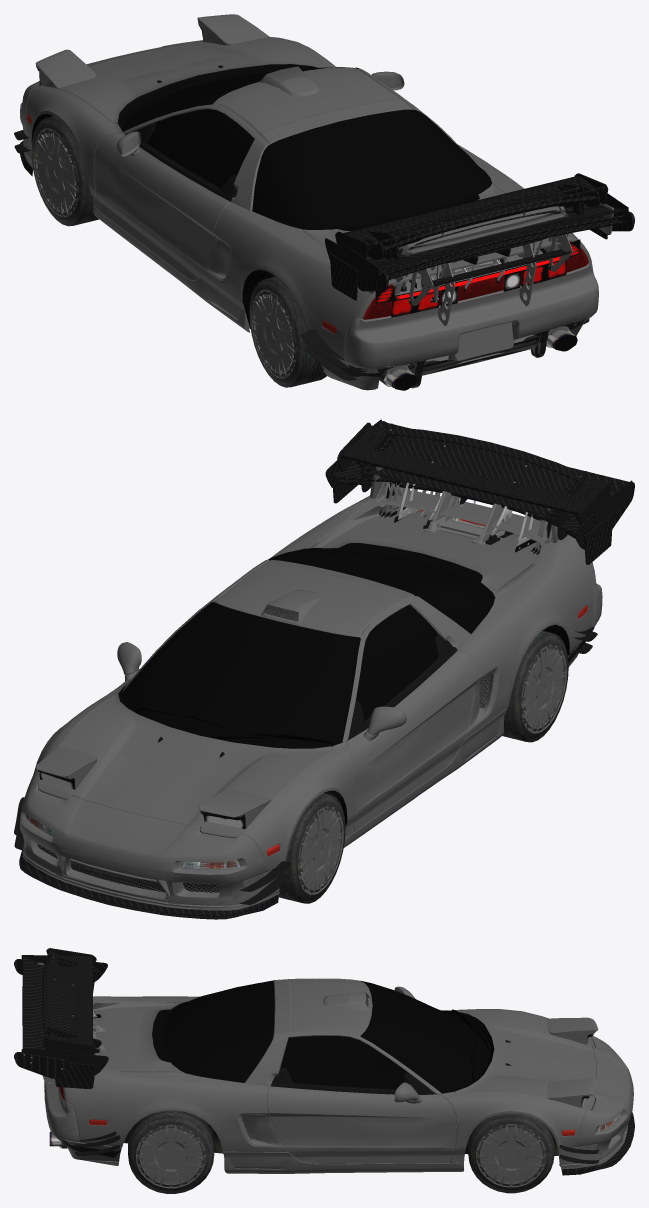
Rendered from Nsx.fbx.
3 renders of one model, top to bottom at view 1: azimuth 30°, elevation 25°; view 2: azimuth 150°, elevation 25°; view 3: azimuth 270°, elevation 25°, orthographic. The views are drawn at different scales.
Visible parts, largest first — view 1: nsx, RearBumper3, RearBumper2, RearBumper1, Spoiler3, Hood, Spoiler9, Spoiler5, Hood1, Spoiler7, HeadLight_on, W1_001 (+20 smaller); view 2: nsx, Hood, FrontBumper2, FrontBumper1, Spoiler9, Hood1, Spoiler7, FrontBumper, Spoiler0, HeadLight_on, FrontBumper3, Spoiler6 (+13 smaller); view 3: nsx, Hood, W1_002, Hood1, Spoiler9, FrontBumper1, W1_003, FrontBumper2, Spoiler3, Spoiler7, HeadLight_on, SideSKirt1 (+22 smaller).
Boxes of the visible parts, bbox=[...] form: nsx: bbox=[25, 37, 591, 362]; RearBumper3: bbox=[305, 262, 598, 389]; RearBumper2: bbox=[300, 263, 598, 390]; RearBumper1: bbox=[337, 261, 598, 376]; Spoiler3: bbox=[312, 187, 628, 305]; Hood: bbox=[59, 37, 325, 123]; Spoiler9: bbox=[304, 173, 608, 275]; Spoiler5: bbox=[307, 186, 634, 302]; Hood1: bbox=[61, 37, 323, 123]; Spoiler7: bbox=[312, 184, 584, 325]; HeadLight_on: bbox=[35, 14, 269, 88]; W1_001: bbox=[250, 276, 326, 386]; nsx: bbox=[28, 495, 594, 871]; Hood: bbox=[59, 694, 332, 826]; FrontBumper2: bbox=[14, 784, 291, 916]; FrontBumper1: bbox=[19, 783, 279, 919]; Spoiler9: bbox=[317, 422, 611, 596]; Hood1: bbox=[60, 695, 332, 826]; Spoiler7: bbox=[336, 423, 587, 593]; FrontBumper: bbox=[20, 784, 282, 904]; Spoiler0: bbox=[309, 490, 558, 597]; HeadLight_on: bbox=[36, 747, 271, 837]; FrontBumper3: bbox=[22, 834, 279, 905]; Spoiler6: bbox=[316, 435, 577, 597]; nsx: bbox=[60, 978, 595, 1163]; Hood: bbox=[455, 1010, 596, 1098]; W1_002: bbox=[128, 1111, 214, 1189]; Hood1: bbox=[456, 1010, 596, 1098]; Spoiler9: bbox=[46, 948, 184, 1073]; FrontBumper1: bbox=[558, 1036, 634, 1175]; W1_003: bbox=[468, 1113, 554, 1188]; FrontBumper2: bbox=[558, 1036, 634, 1173]; Spoiler3: bbox=[21, 955, 178, 1078]; Spoiler7: bbox=[43, 953, 171, 1087]; HeadLight_on: bbox=[547, 1017, 598, 1110]; SideSKirt1: bbox=[224, 1156, 463, 1173].
Bounding box in the file's own units: 1.46 × 0.9951 × 3.56.
